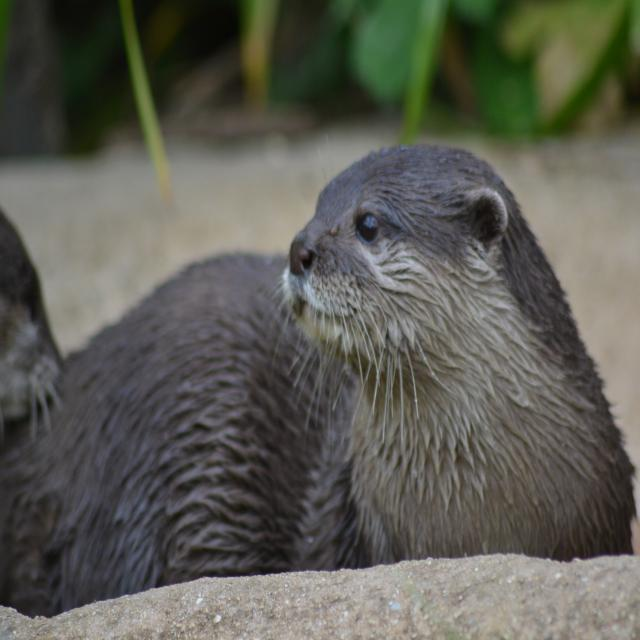otter: (282, 138, 637, 563)
